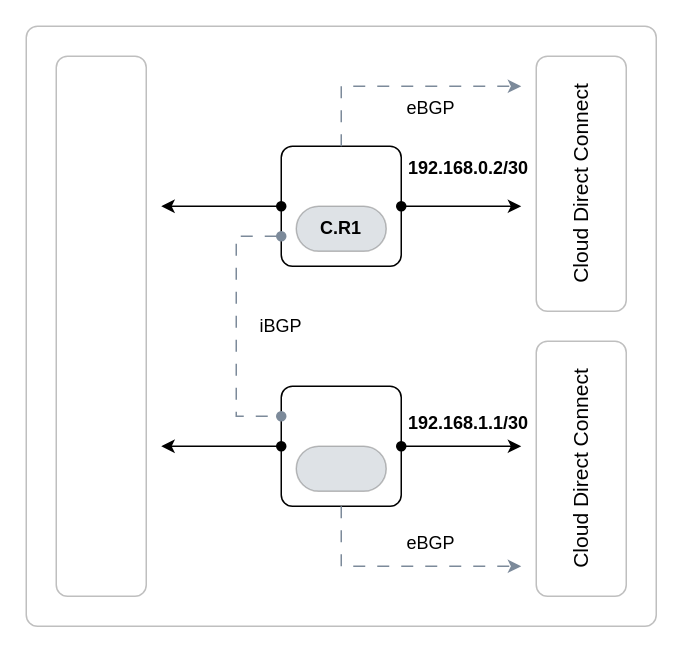
Image size: 683x653. Some labels were removed from this diagram. The shapes that lost their labels are listed below. From the top down, each one's centre as x and y in pixels, then its label:
the point at 100,325: адресное пространство локальных сетей клиента
the point at 340,468: C.R2
